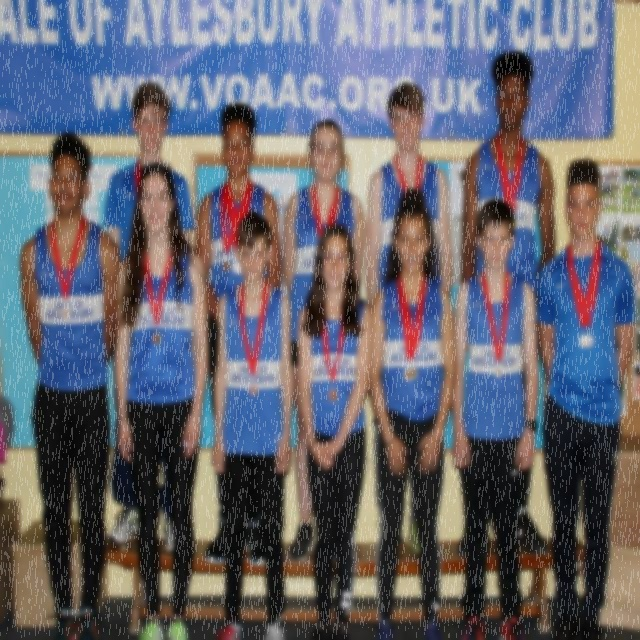pessoa: (18, 128, 126, 639), (456, 49, 558, 561), (534, 153, 638, 640), (110, 156, 209, 640), (101, 80, 200, 556), (194, 98, 286, 570), (365, 80, 454, 559), (448, 195, 542, 640), (369, 185, 459, 639), (280, 116, 370, 568), (208, 208, 296, 640), (295, 220, 375, 640), (595, 161, 639, 255), (620, 257, 640, 421)
